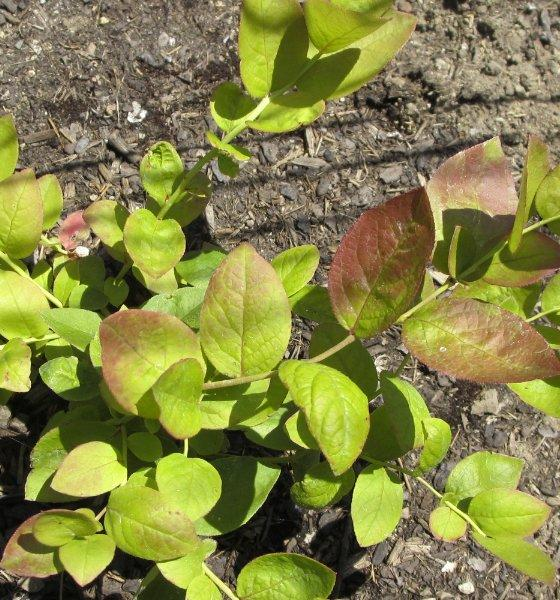Blueberry leaf: (48, 433, 232, 567), (80, 305, 234, 441), (324, 175, 444, 349), (384, 278, 560, 393), (439, 451, 560, 591), (197, 226, 294, 382), (275, 355, 375, 473), (230, 1, 314, 116), (1, 159, 65, 259), (115, 204, 190, 289), (350, 453, 409, 557), (231, 550, 328, 600)
